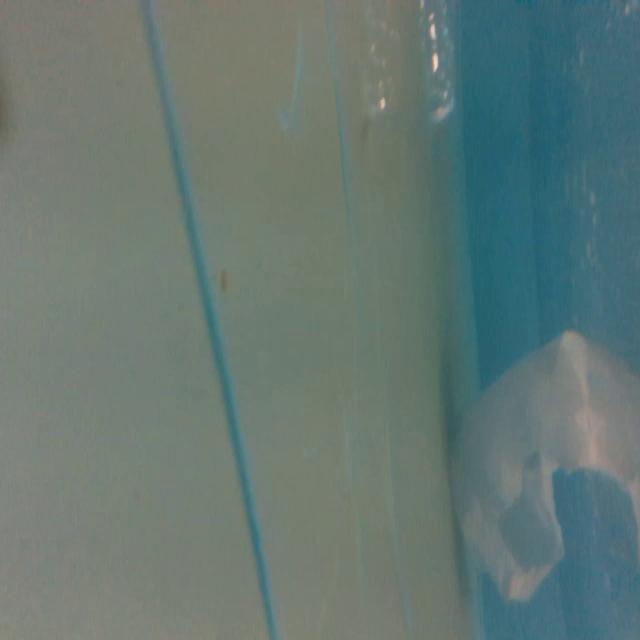plastic bags: (447, 326, 636, 612)
